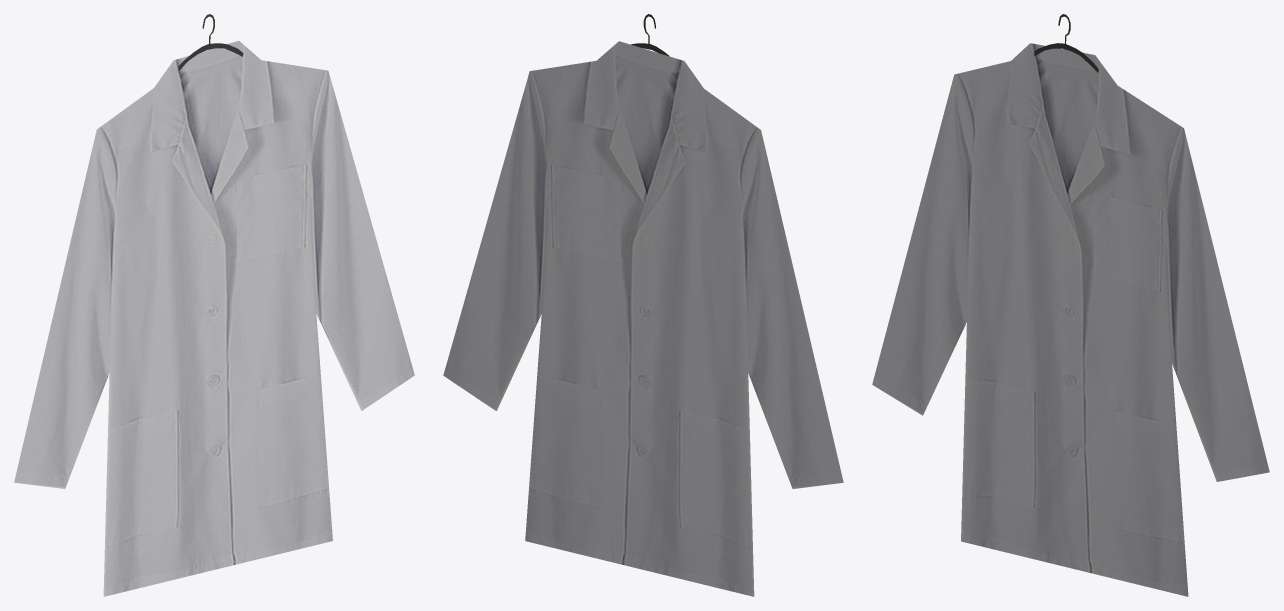
File: lab coat.FBX
The picture shows the model from 3 angles, left to right: view 1: azimuth 30°, elevation 25°; view 2: azimuth 150°, elevation 25°; view 3: azimuth 330°, elevation 25°; orthographic projection.
Visible parts, largest first — view 1: lab coat; view 2: lab coat; view 3: lab coat.
Part boxes in pixels (x1,y1,x2,y2): lab coat: [14, 14, 414, 596]; lab coat: [443, 14, 843, 596]; lab coat: [872, 14, 1269, 596].
Bounding box in the file's own units: 137 × 182 × 0.2418.
2 materials, 1 textured.
